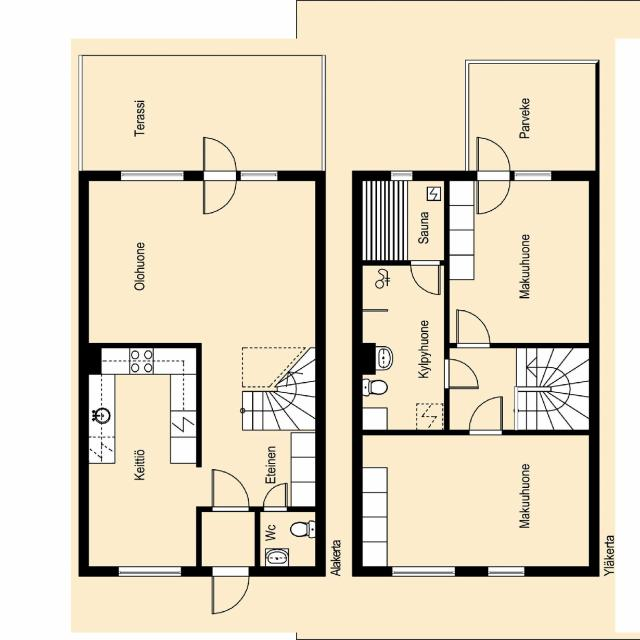door: (213, 569, 250, 616), (213, 472, 250, 514), (204, 138, 237, 182), (204, 171, 237, 215), (477, 137, 510, 181), (477, 170, 510, 214), (469, 397, 502, 435), (457, 310, 489, 348), (410, 260, 440, 295), (444, 359, 478, 389), (264, 486, 288, 514)
